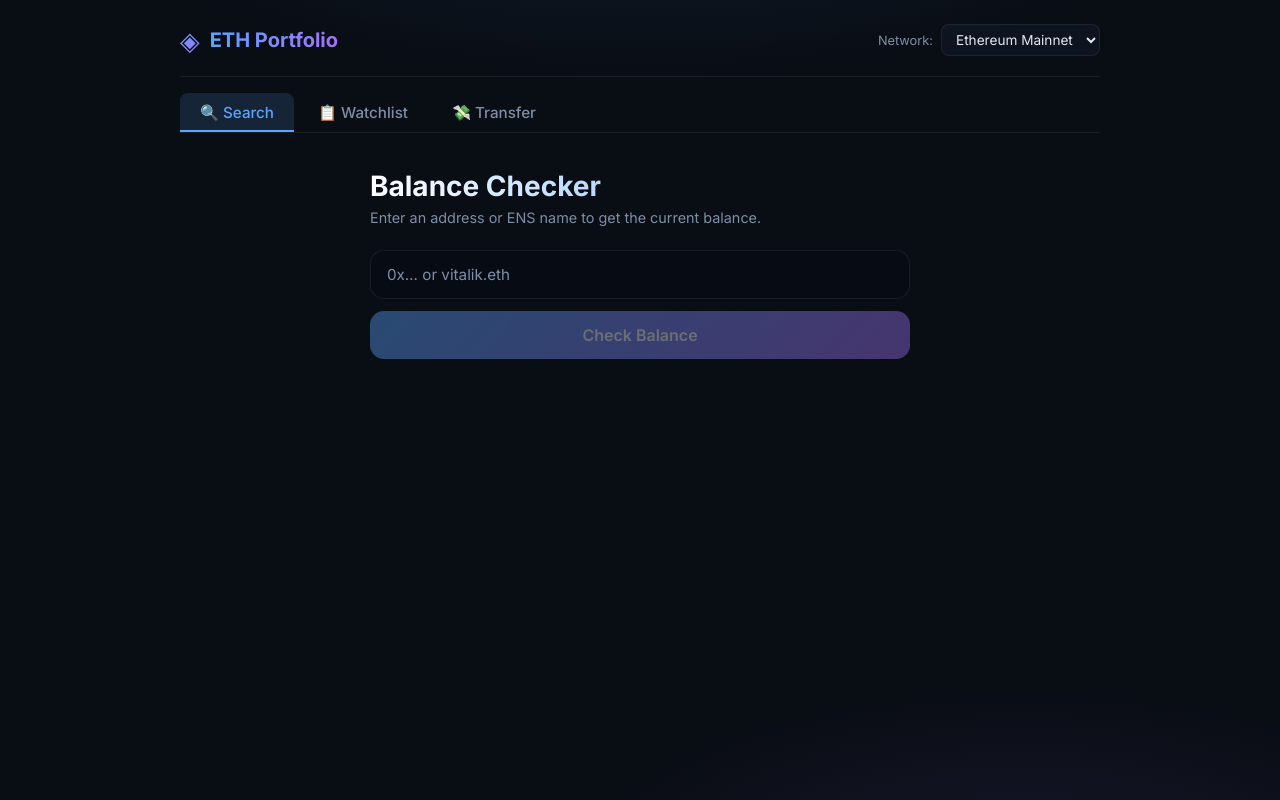
Test: App — Watchlist Tab › shows empty watchlist when nothing is saved
Click the tab with test id "watchlist-tab-btn".
click(363, 112)  # box [298, 93, 428, 132]
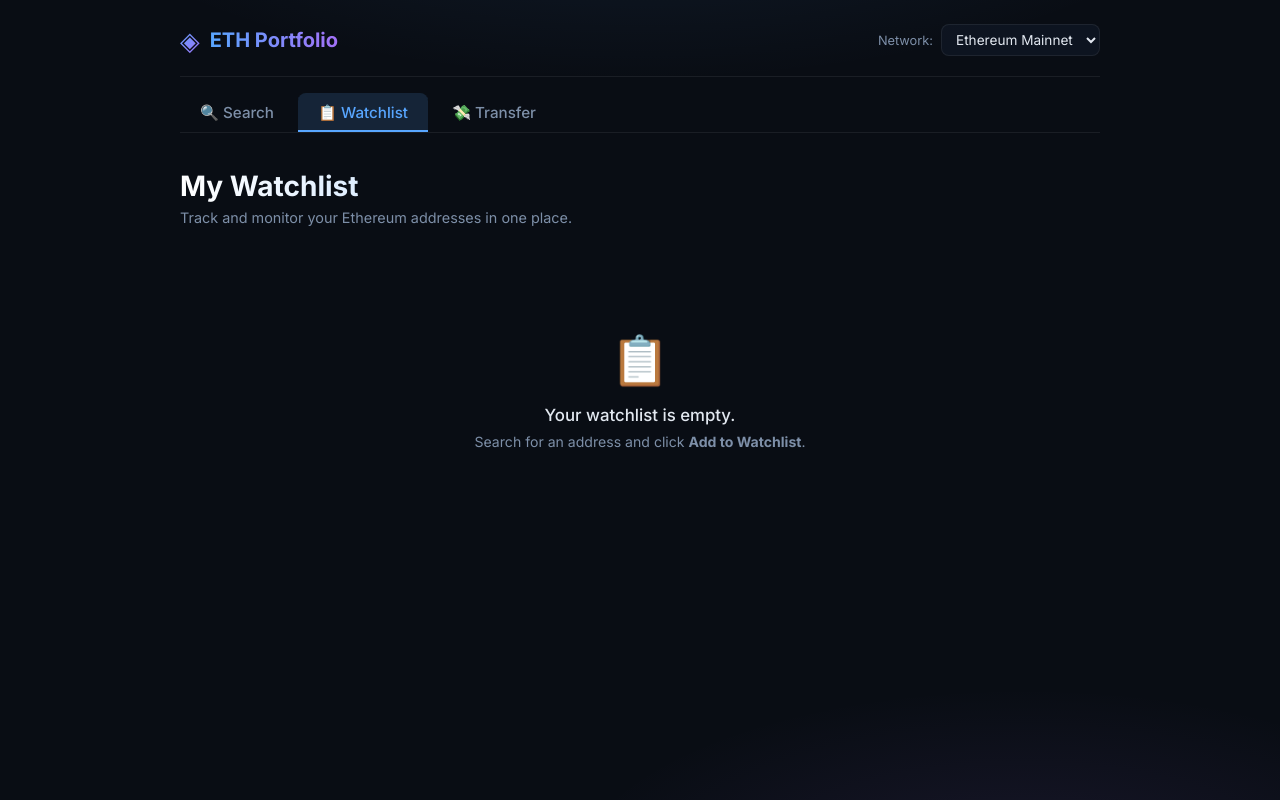
Expected: the element with test id "watchlist-empty" is shown, [474, 330, 806, 450]
